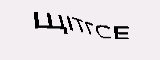І: (64, 15, 76, 33)
Г: (83, 18, 93, 35)
Е: (112, 24, 130, 41)
С: (95, 23, 112, 40)
Т: (70, 15, 85, 33)
Щ: (31, 10, 68, 35)
